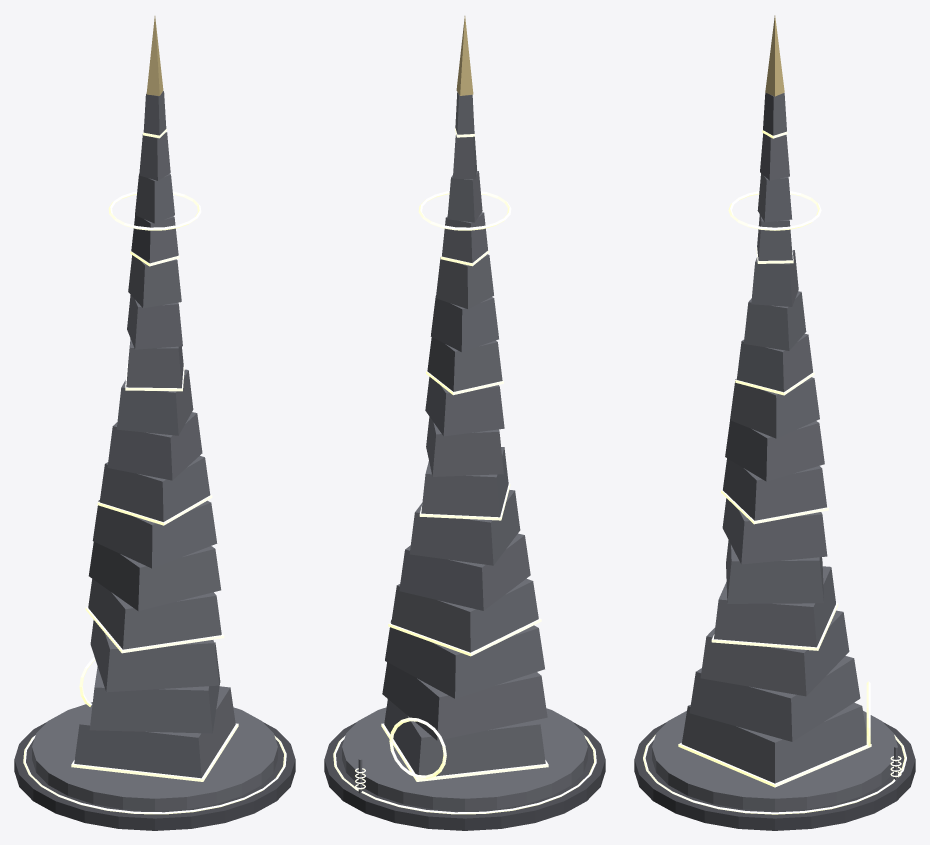
Rendered from zone_high_4_t4.glb.
The picture shows the model from 3 angles, left to right: view 1: azimuth 30°, elevation 25°; view 2: azimuth 150°, elevation 25°; view 3: azimuth 270°, elevation 25°; orthographic projection.
Visible parts, largest first — view 1: zone_high_4_t4; view 2: zone_high_4_t4; view 3: zone_high_4_t4.
Boxes of the visible parts, x1,y1,x2,y2 form: zone_high_4_t4: (14, 16, 295, 830); zone_high_4_t4: (324, 16, 605, 830); zone_high_4_t4: (634, 15, 915, 830).
Size of the model in its own units: 28.8 by 85.62 by 28.8.
